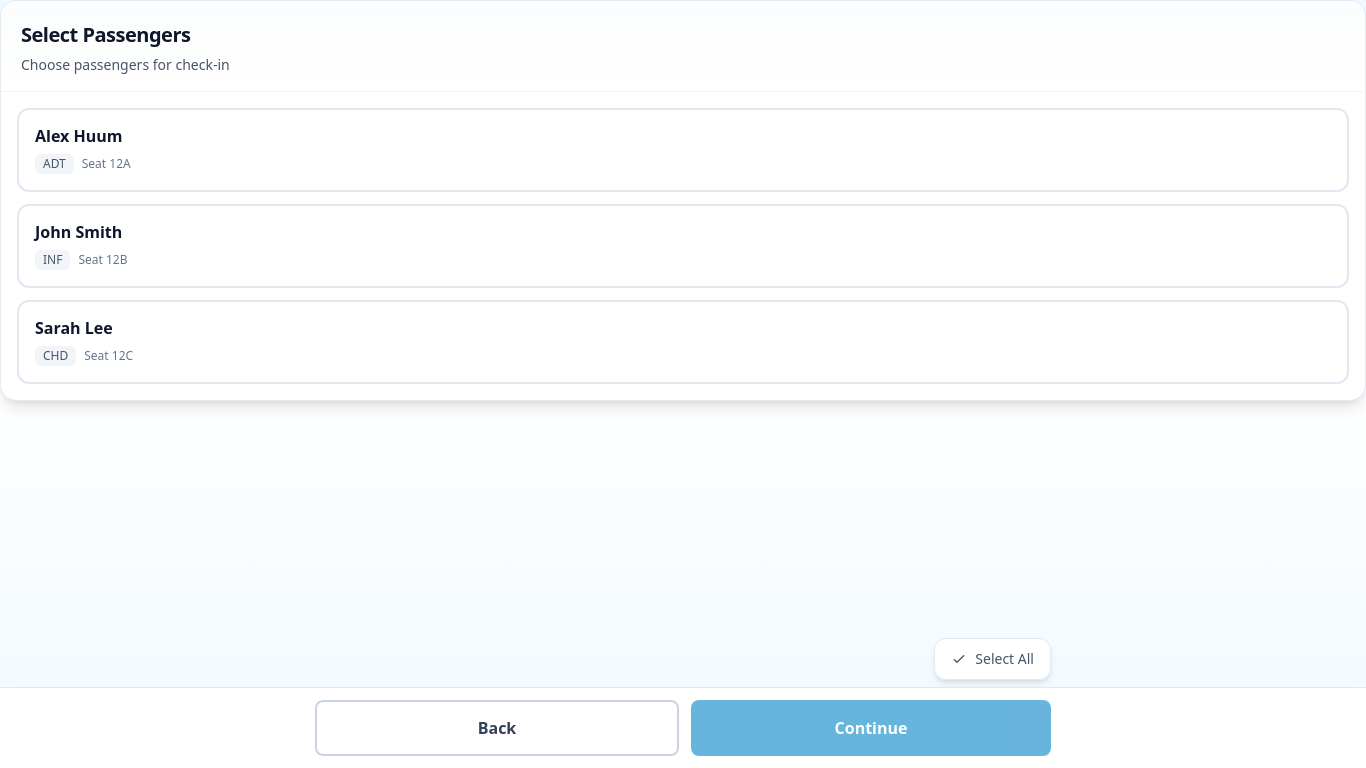
Test: PassengerSelect › Edge Cases › should deselect all passengers when Clear All is clicked
Click the button "Select All": x=993, y=659 [934,638,1051,680]
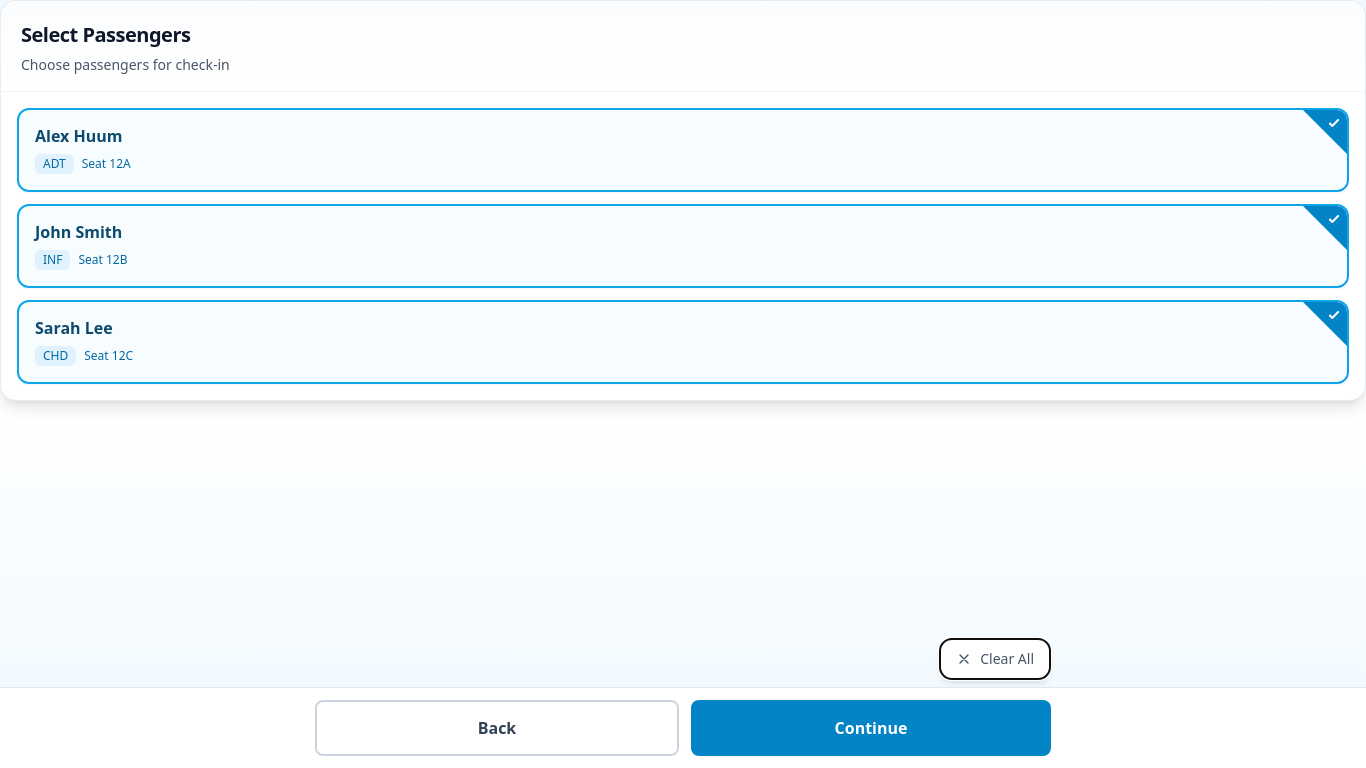
Now the button "Clear All" is shown
Click the button "Clear All": x=995, y=659 [939,638,1051,680]
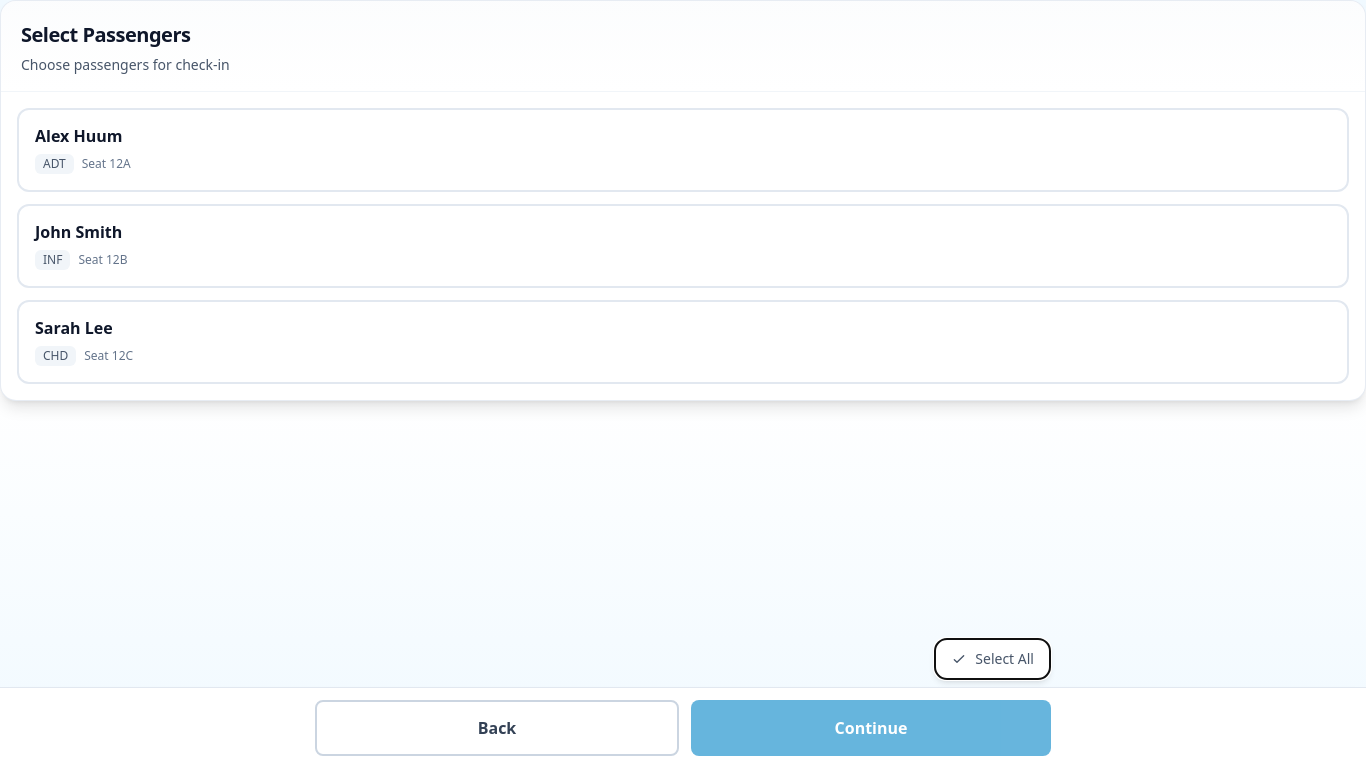
Now the button "Select All" is shown, box [934,638,1051,680]
Now the button "Continue" is disabled, box [691,700,1051,756]
